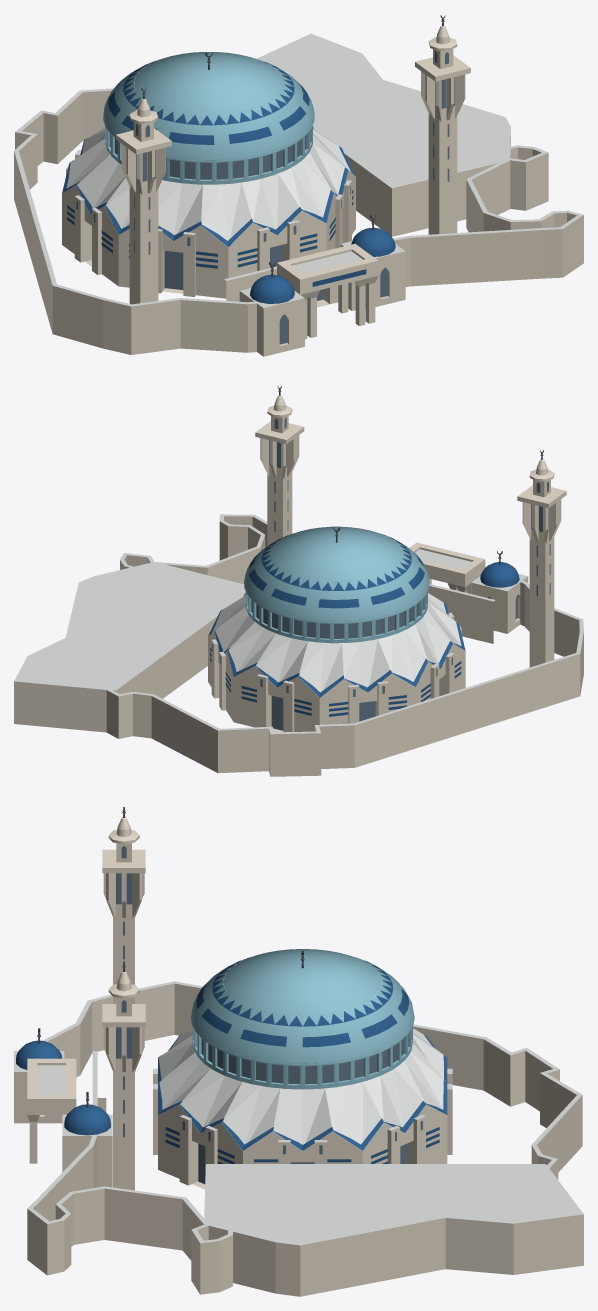
File: amman-king-abdullah-mosque.glb
3 views of the same model, one above another, from view 1: azimuth 30°, elevation 25°; view 2: azimuth 150°, elevation 25°; view 3: azimuth 270°, elevation 25° (orthographic). The views are drawn at different scales.
Parts seen in each view (by area): view 1: King Abdullah I Mosque; view 2: King Abdullah I Mosque; view 3: King Abdullah I Mosque.
Boxes of the visible parts, box(x1,y1,x2,y2) form: King Abdullah I Mosque: box(14, 15, 583, 356); King Abdullah I Mosque: box(14, 386, 583, 776); King Abdullah I Mosque: box(14, 807, 583, 1296).
Size of the model in its own units: 99.4 by 45.86 by 90.6.
